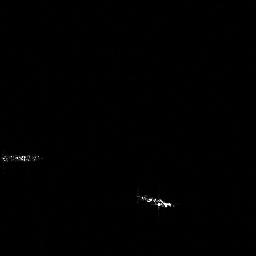ship: (140, 194, 171, 208), (2, 152, 41, 161)
